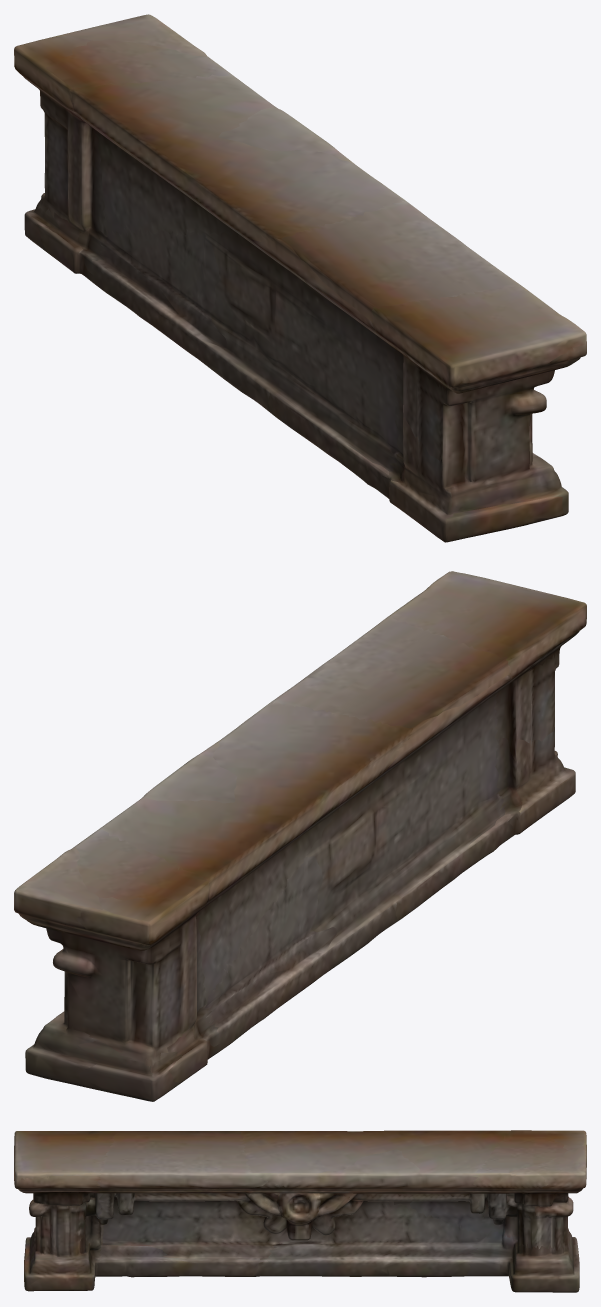
Rendered from import-1780595975167-wall2.web.webp.glb.
3 renders of one model, top to bottom at view 1: azimuth 30°, elevation 25°; view 2: azimuth 150°, elevation 25°; view 3: azimuth 270°, elevation 25°, orthographic. The views are drawn at different scales.
Bounding box in the file's own units: 0.0727 × 0.0925 × 0.3927.
1 material, 1 textured.
